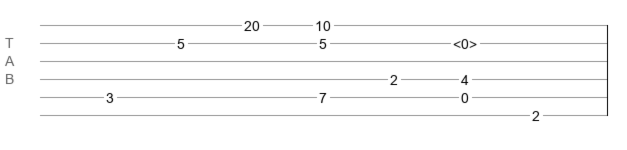0: (461, 90, 469, 100)
10: (315, 18, 331, 28)
2: (390, 72, 398, 82), (532, 108, 540, 118)
20: (244, 18, 260, 28)
3: (106, 90, 114, 100)
4: (461, 72, 469, 82)
5: (177, 36, 185, 46), (319, 36, 327, 46)
7: (319, 90, 327, 100)
harmonic: (453, 36, 477, 46)
